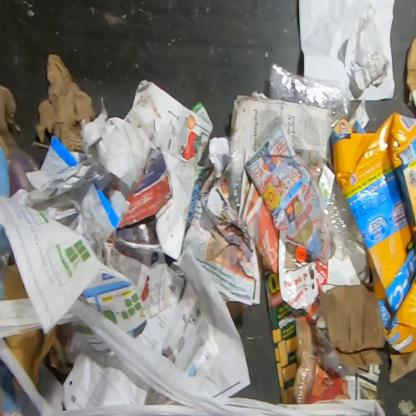cardboard: (328, 109, 415, 384), (34, 53, 98, 153), (316, 283, 386, 367), (108, 153, 173, 229), (4, 326, 58, 394), (2, 262, 29, 300)
rigid_plastic: (312, 160, 360, 262)
soft_plastic: (268, 60, 350, 128), (227, 145, 245, 213)
